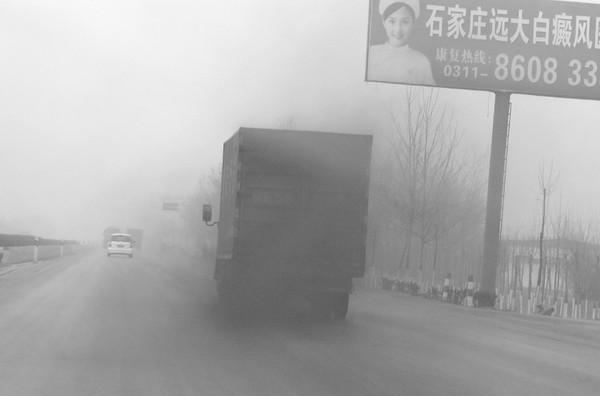bus: (202, 125, 375, 327), (126, 228, 144, 253), (103, 227, 121, 250)
car: (106, 233, 136, 259)
